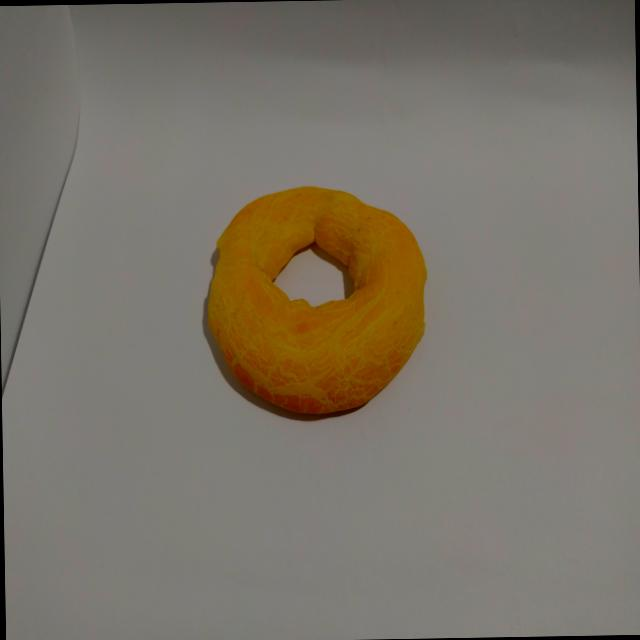Chipa: (188, 173, 438, 435)
